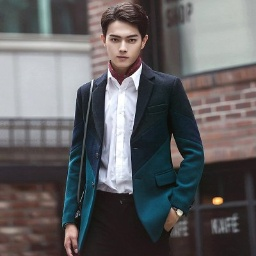face: (101, 2, 152, 69)
